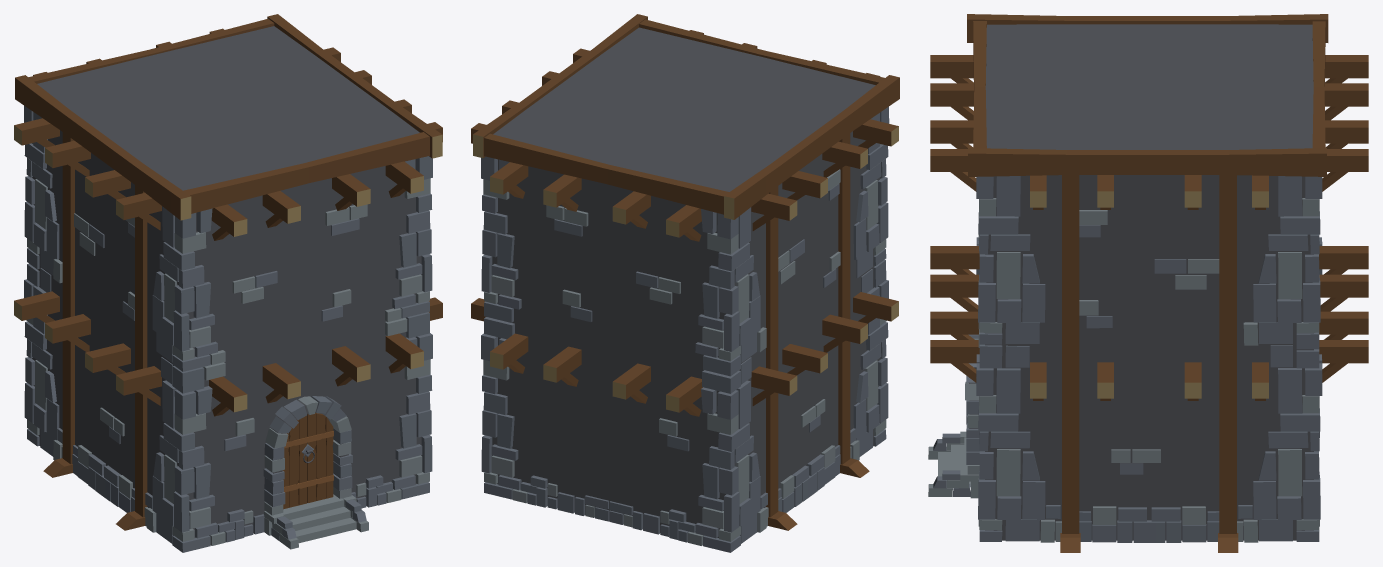
File: House_3_Baked.obj
3 renders of one model, left to right at view 1: azimuth 30°, elevation 25°; view 2: azimuth 150°, elevation 25°; view 3: azimuth 270°, elevation 25°, orthographic. The views are drawn at different scales.
Visible parts, largest first — view 1: House_3_Cube.305; view 2: House_3_Cube.305; view 3: House_3_Cube.305.
Part boxes in pixels (box(x1,y1,x2,y2)): House_3_Cube.305: box(14, 14, 442, 552); House_3_Cube.305: box(471, 14, 899, 552); House_3_Cube.305: box(928, 14, 1368, 552).
Size of the model in its own units: 1.94 by 2.09 by 2.12.
1 material, 1 textured.
